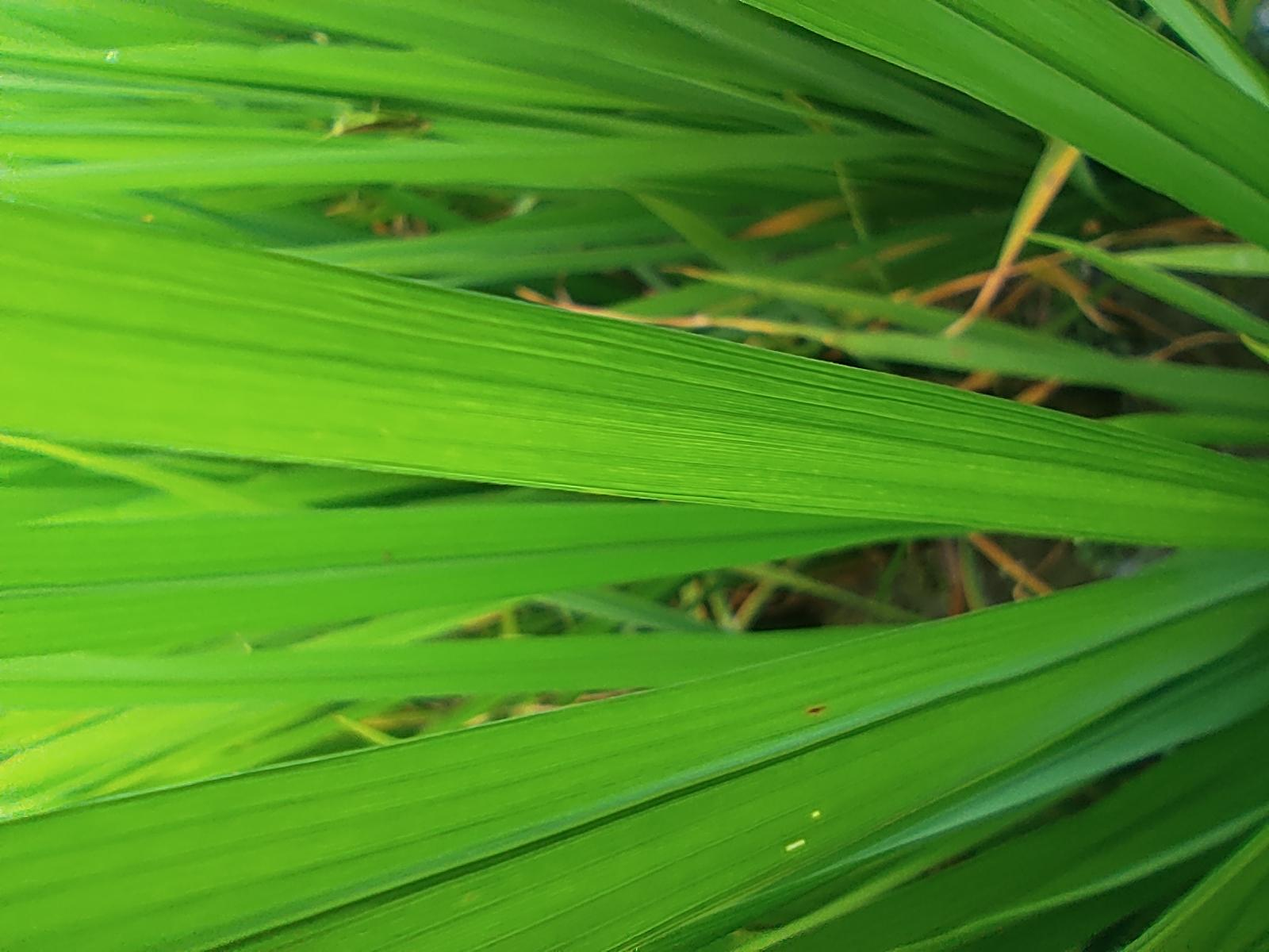Healthy: (538, 0, 996, 951)
